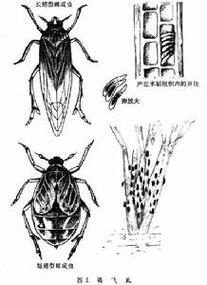Delphacidae: (13, 3, 98, 138), (8, 139, 100, 261)
